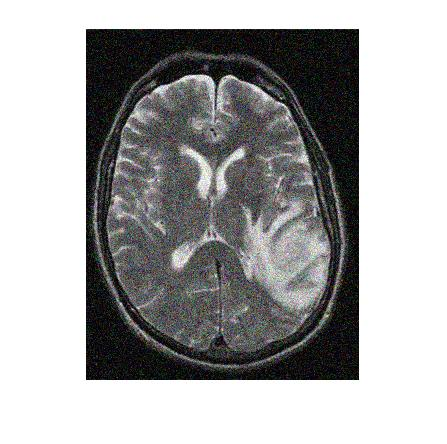Brain_Cancer: (243, 209, 328, 306)
